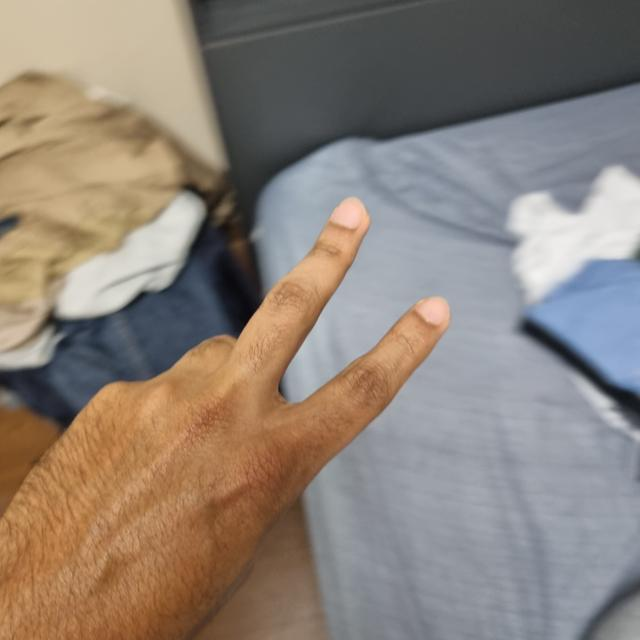Scissors: (0, 72, 446, 639)
